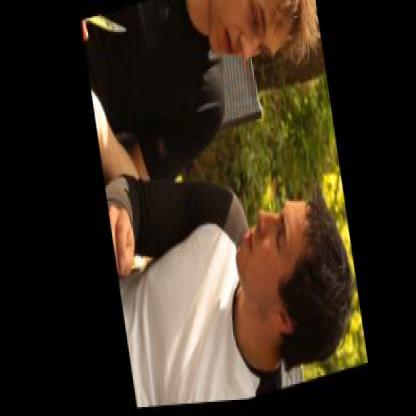knife: (80, 8, 136, 60)
